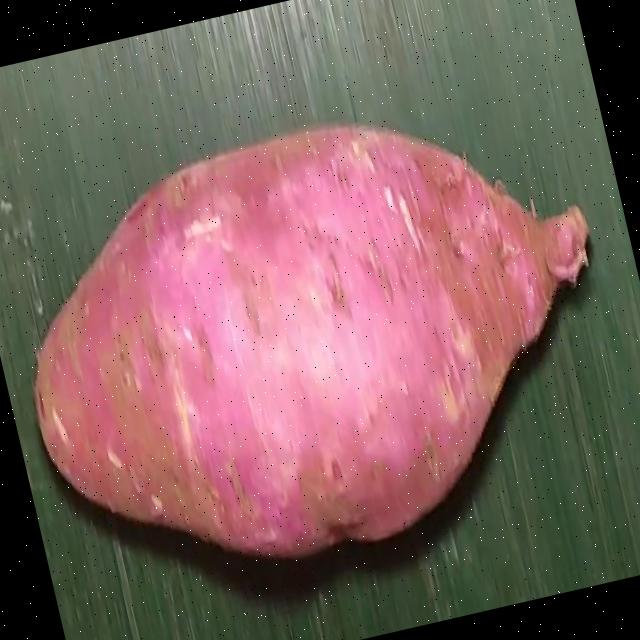Sweet Potato: (37, 126, 592, 563)
